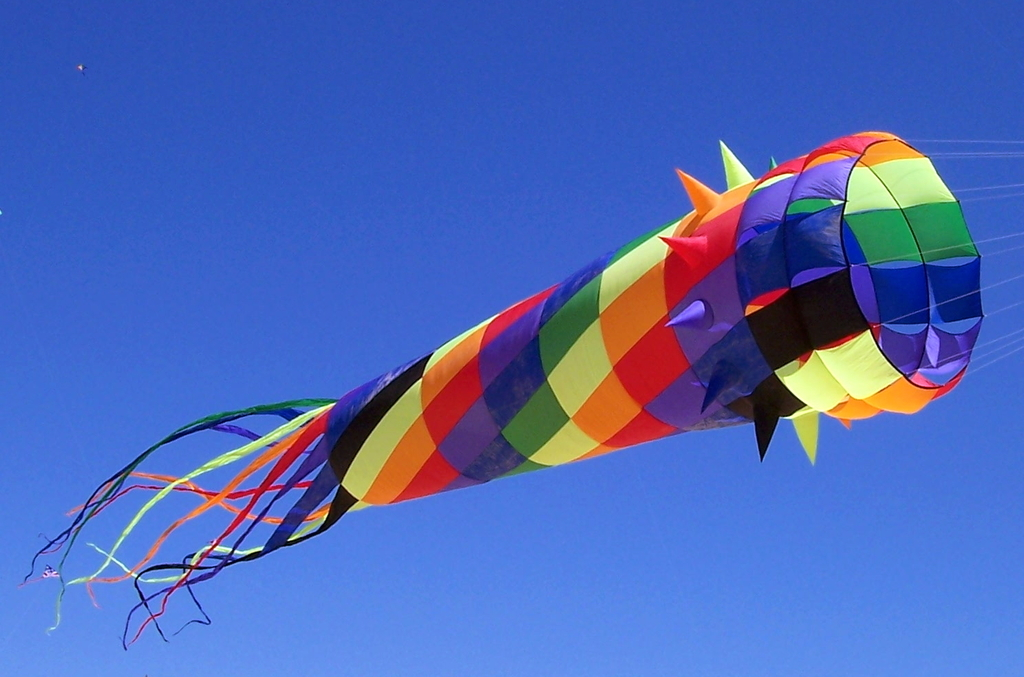kite: (25, 121, 995, 651)
